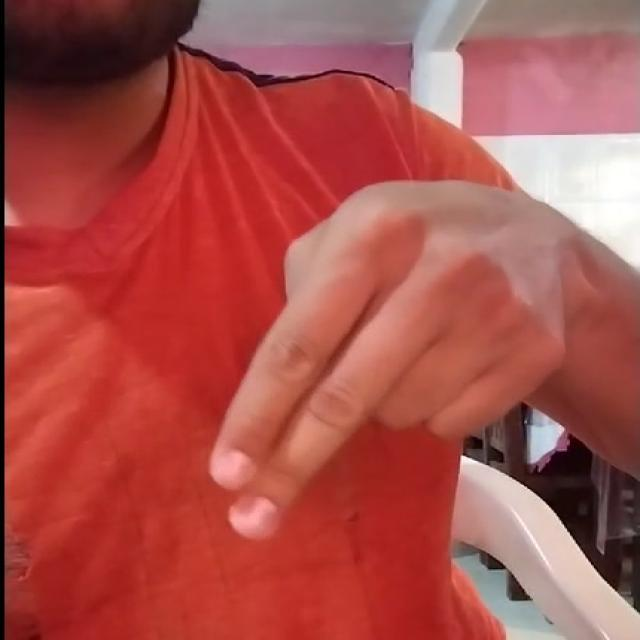N: (183, 149, 619, 567)
